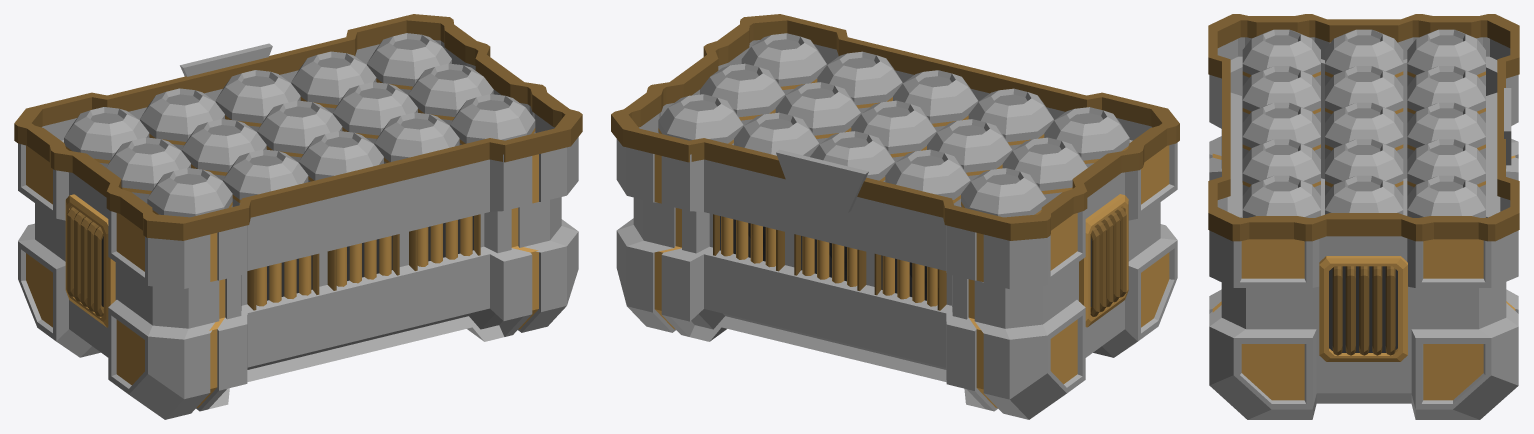
File: Props_ContainerFull.gltf
3 views of the same model, side by side, from view 1: azimuth 30°, elevation 25°; view 2: azimuth 150°, elevation 25°; view 3: azimuth 270°, elevation 25° (orthographic).
Visible parts, largest first — view 1: Props_ContainerFull; view 2: Props_ContainerFull; view 3: Props_ContainerFull.
Part boxes in pixels (x1,y1,x2,y2): Props_ContainerFull: (14, 14, 582, 419); Props_ContainerFull: (611, 14, 1179, 419); Props_ContainerFull: (1208, 14, 1519, 419).
Size of the model in its own units: 1.2 by 0.5824 by 0.7517.
